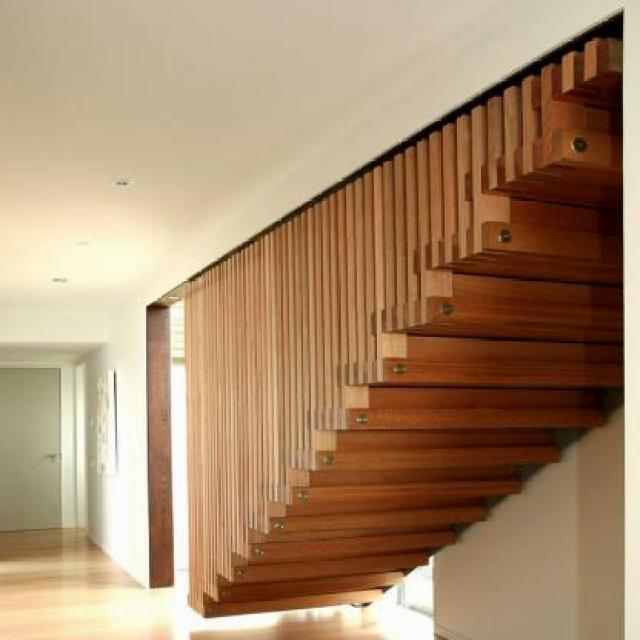stair: (170, 89, 608, 634)
